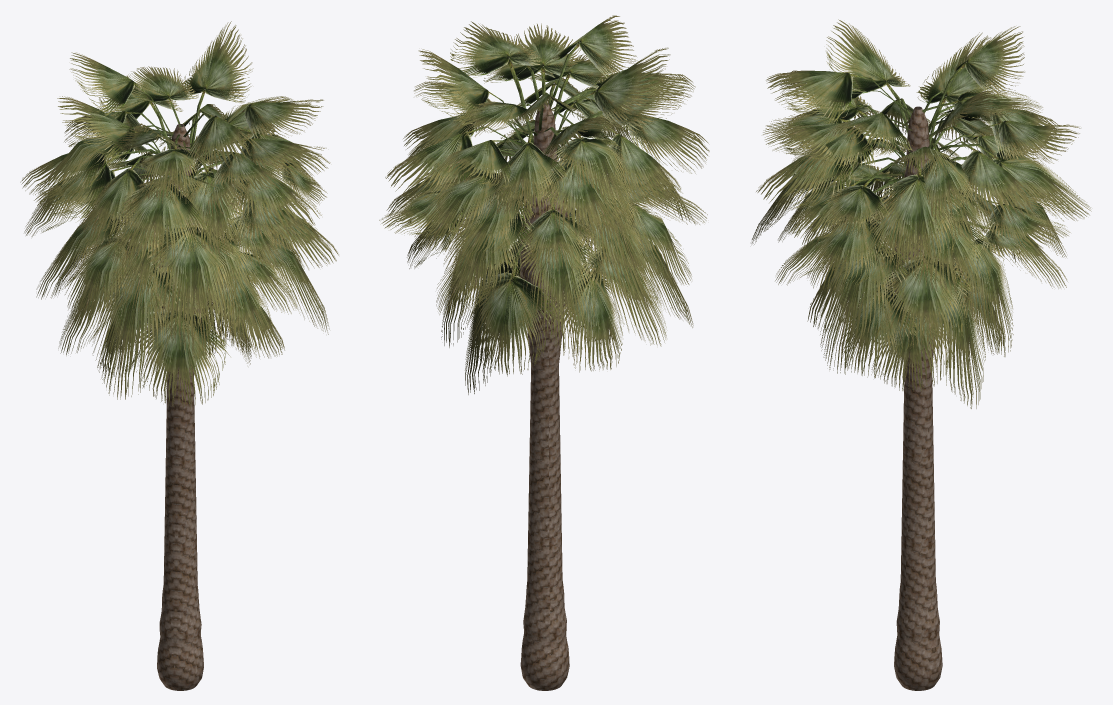
File: palmier-dattier-3.glb
The picture shows the model from 3 angles, left to right: view 1: azimuth 30°, elevation 25°; view 2: azimuth 150°, elevation 25°; view 3: azimuth 270°, elevation 25°; orthographic projection. The views are drawn at different scales.
Visible parts, largest first — view 1: PalmBark, PalmLeaf.015, PalmLeaf.006, PalmLeaf.007, PalmLeaf.034, PalmLeaf.014, PalmLeaf.027, PalmLeaf.035, PalmLeaf.025, PalmLeaf, PalmLeaf.023, PalmLeaf.017 (+34 smaller); view 2: PalmBark, PalmLeaf.004, PalmLeaf.008, PalmLeaf.011, PalmLeaf.013, PalmLeaf.026, PalmLeaf.033, PalmLeaf.005, PalmLeaf.044, PalmLeaf.022, PalmLeaf.042, PalmLeaf.040 (+34 smaller); view 3: PalmBark, PalmLeaf.001, PalmLeaf.010, PalmLeaf.059, PalmLeaf.009, PalmLeaf.041, PalmLeaf.012, PalmLeaf.002, PalmLeaf.063, PalmLeaf.031, PalmLeaf.029, PalmLeaf.003 (+32 smaller).
Part boxes in pixels (bbox=[...]): PalmBark: bbox=[157, 124, 203, 690]; PalmLeaf.015: bbox=[145, 182, 243, 359]; PalmLeaf.006: bbox=[92, 265, 190, 399]; PalmLeaf.007: bbox=[132, 308, 230, 407]; PalmLeaf.034: bbox=[114, 169, 211, 262]; PalmLeaf.014: bbox=[65, 236, 153, 326]; PalmLeaf.027: bbox=[181, 21, 253, 150]; PalmLeaf.035: bbox=[196, 154, 321, 239]; PalmLeaf.025: bbox=[178, 147, 249, 257]; PalmLeaf: bbox=[194, 272, 273, 351]; PalmLeaf.023: bbox=[80, 156, 151, 245]; PalmLeaf.017: bbox=[24, 149, 158, 236]; PalmBark: bbox=[520, 102, 569, 690]; PalmLeaf.004: bbox=[470, 238, 561, 376]; PalmLeaf.008: bbox=[518, 191, 601, 356]; PalmLeaf.011: bbox=[414, 149, 518, 251]; PalmLeaf.013: bbox=[443, 212, 537, 307]; PalmLeaf.026: bbox=[547, 113, 637, 221]; PalmLeaf.033: bbox=[531, 127, 630, 237]; PalmLeaf.005: bbox=[550, 252, 622, 372]; PalmLeaf.044: bbox=[551, 168, 660, 311]; PalmLeaf.022: bbox=[488, 130, 567, 213]; PalmLeaf.042: bbox=[566, 217, 666, 346]; PalmLeaf.040: bbox=[450, 21, 541, 143]; PalmBark: bbox=[893, 106, 942, 690]; PalmLeaf.001: bbox=[817, 244, 907, 374]; PalmLeaf.010: bbox=[874, 148, 968, 279]; PalmLeaf.059: bbox=[877, 252, 975, 352]; PalmLeaf.009: bbox=[806, 177, 906, 293]; PalmLeaf.041: bbox=[915, 263, 985, 408]; PalmLeaf.012: bbox=[900, 217, 995, 296]; PalmLeaf.002: bbox=[949, 234, 1013, 356]; PalmLeaf.063: bbox=[840, 256, 919, 377]; PalmLeaf.031: bbox=[766, 71, 910, 123]; PalmLeaf.029: bbox=[826, 19, 910, 132]; PalmLeaf.003: bbox=[868, 307, 952, 391].
Size of the model in its own units: 4.31 by 9.27 by 4.64.
2 materials, 2 textured.
